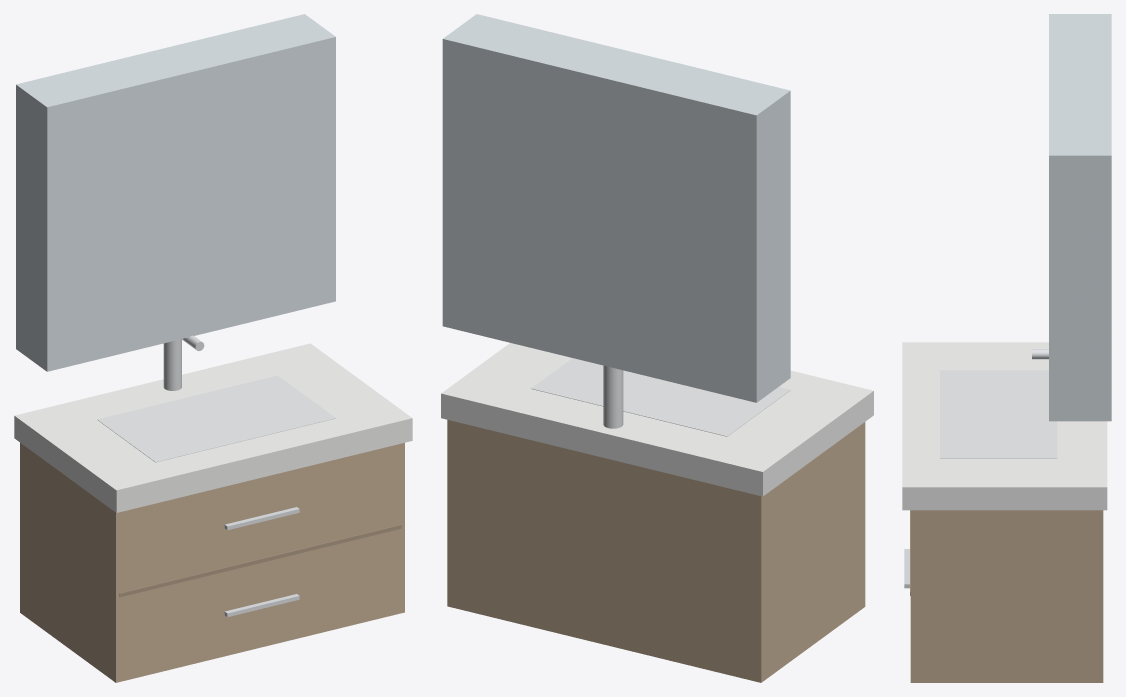
The model's file is waschtisch.glb.
3 renders of one model, left to right at view 1: azimuth 30°, elevation 25°; view 2: azimuth 150°, elevation 25°; view 3: azimuth 270°, elevation 25°, orthographic. The views are drawn at different scales.
Size of what is drawn, in the model's own units: 0.82 by 1.39 by 0.5.
